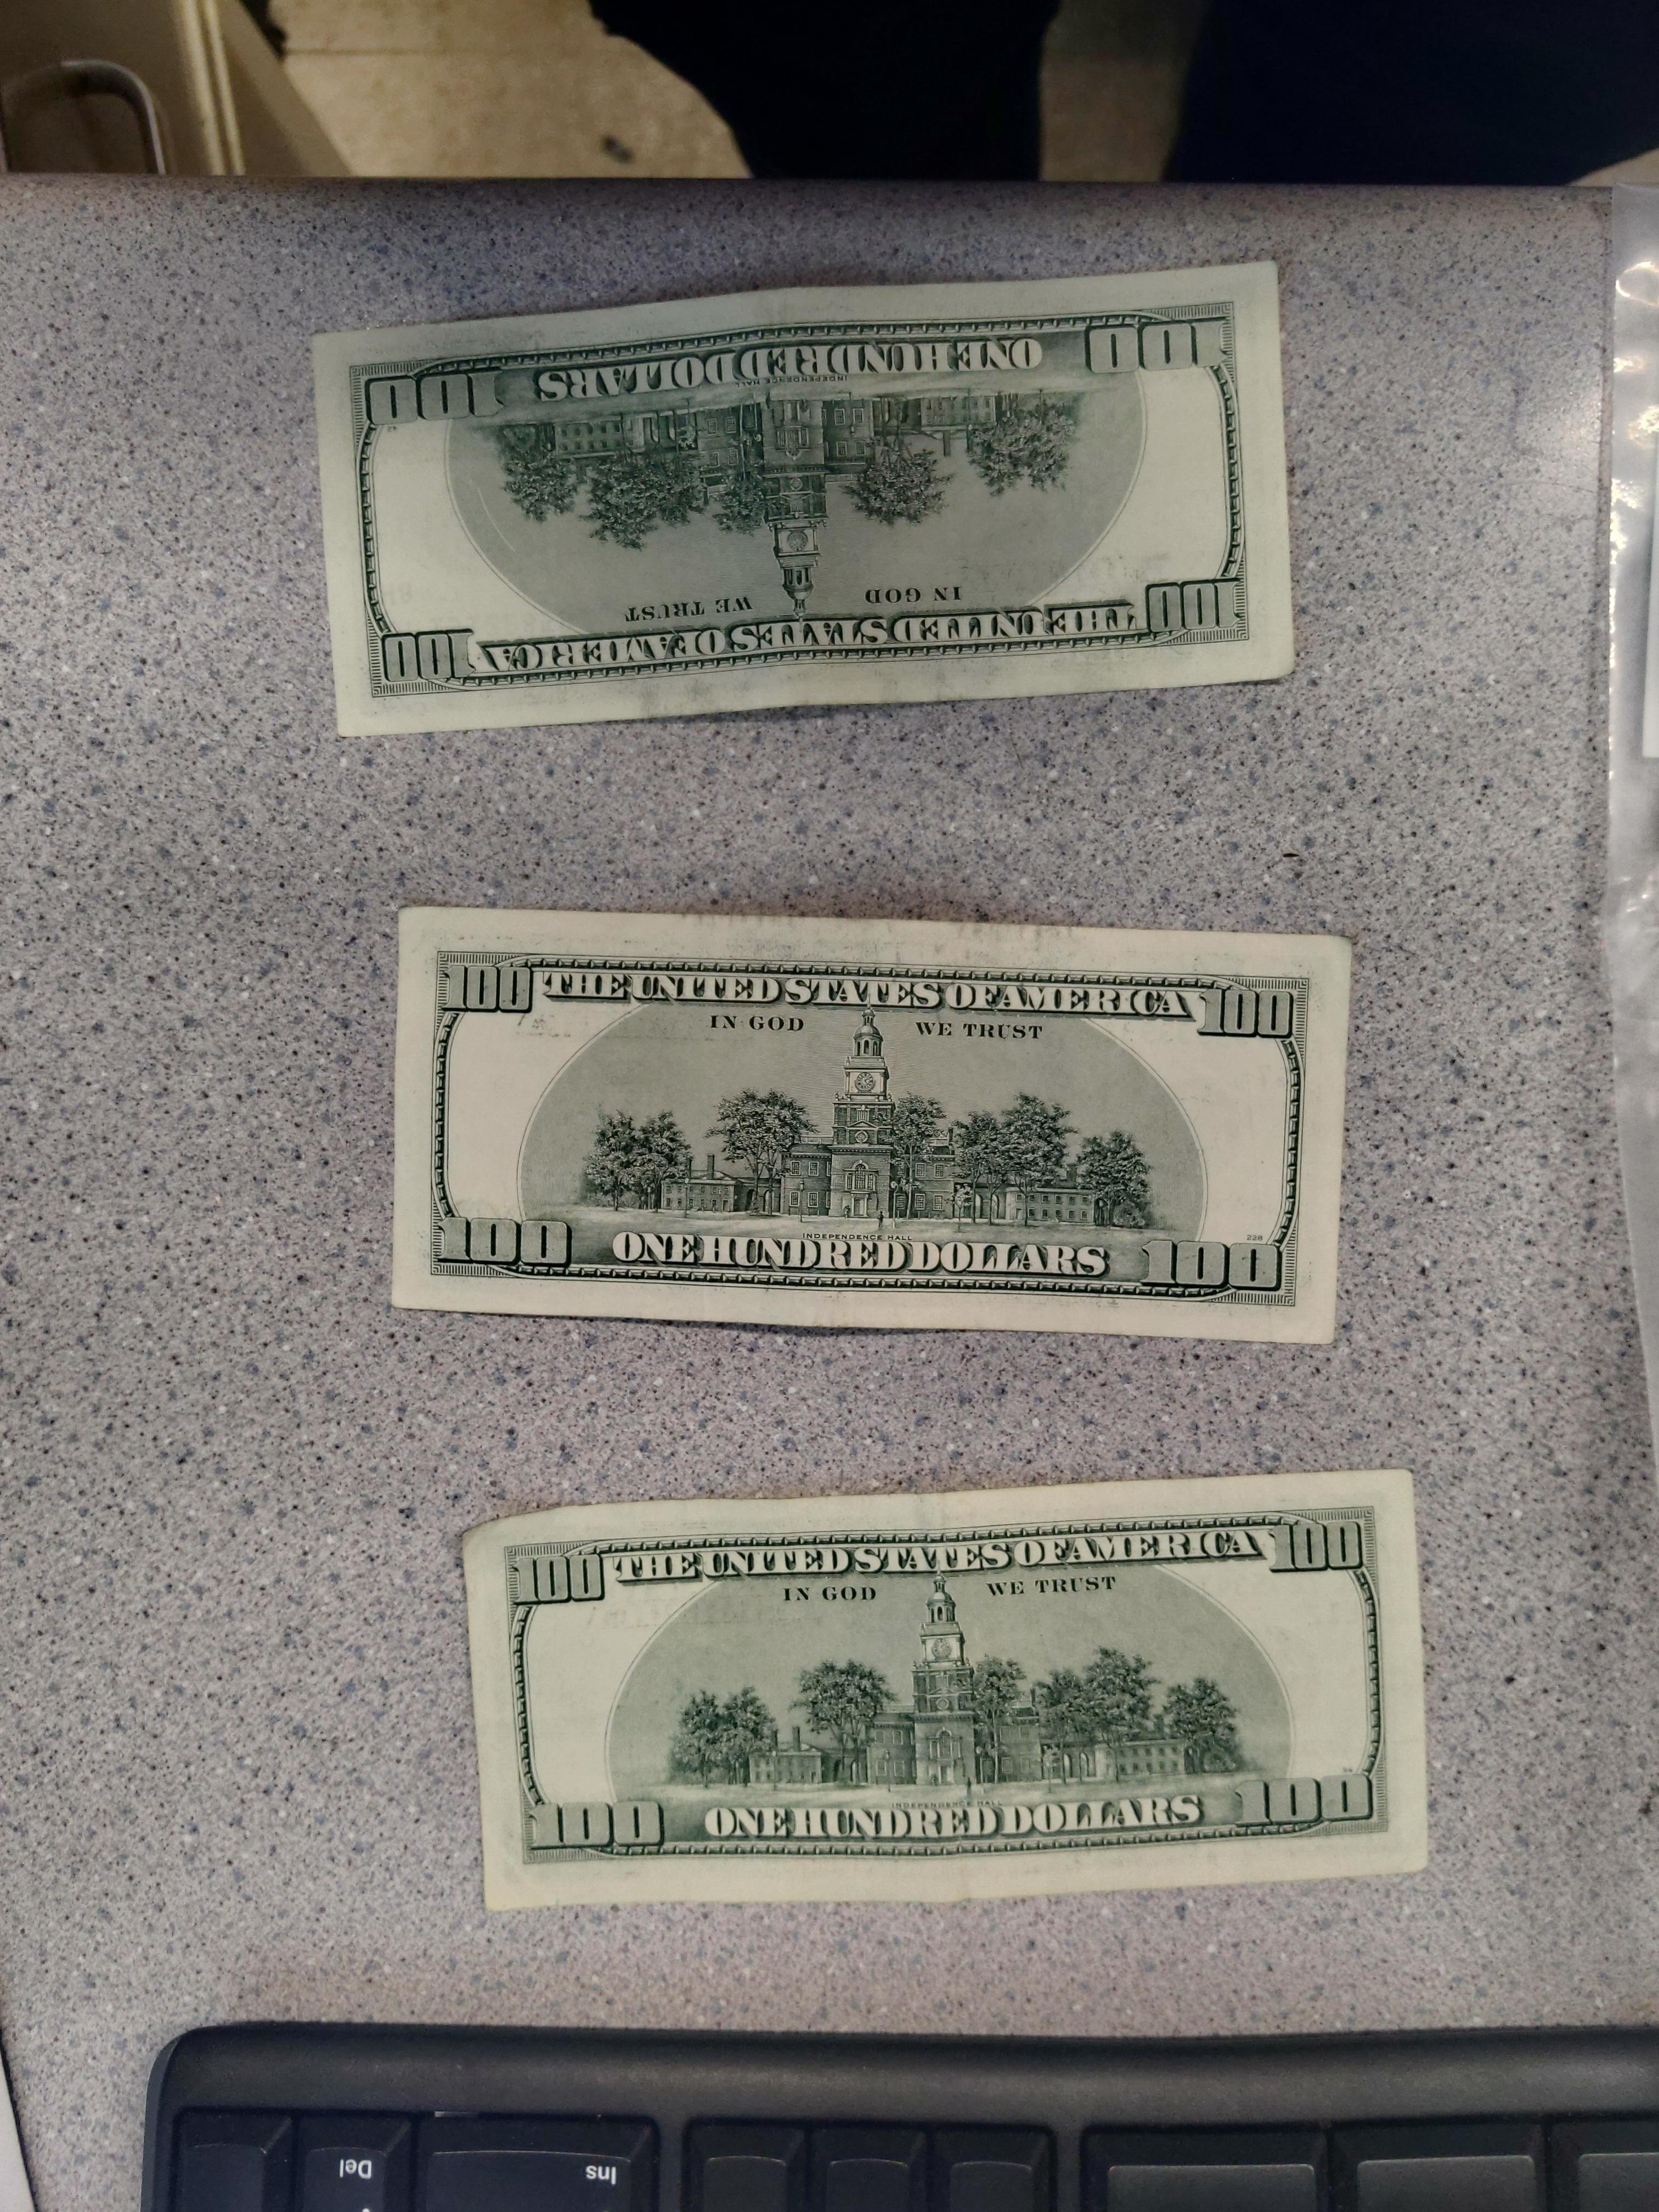HundredBill: (308, 253, 1300, 737), (460, 1465, 1431, 1914), (389, 904, 1354, 1348)
